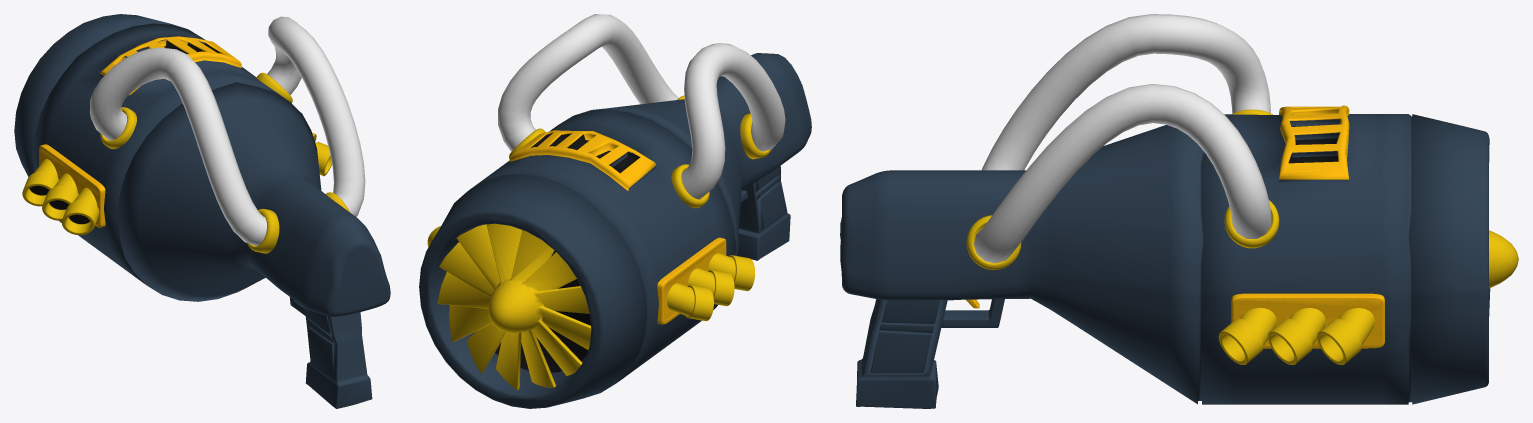
The model's file is propulseur.fbx.
3 views of the same model, side by side, from view 1: azimuth 30°, elevation 25°; view 2: azimuth 150°, elevation 25°; view 3: azimuth 270°, elevation 25° (orthographic). The views are drawn at different scales.
Visible parts, largest first — view 1: Cylinder, BezierCurve, Cylinder.002, Cube, Circle, Circle.001; view 2: Cylinder, Plane.001, BezierCurve, Cylinder.002, Cube, Circle, Circle.001; view 3: Cylinder, BezierCurve, Cylinder.002, Cube, Plane.001, Circle, Circle.001.
Boxes of the visible parts, bbox=[...] form: Cylinder: bbox=[14, 14, 390, 408]; BezierCurve: bbox=[90, 16, 365, 245]; Cylinder.002: bbox=[22, 132, 331, 235]; Cube: bbox=[39, 144, 105, 227]; Circle: bbox=[100, 72, 292, 149]; Circle.001: bbox=[247, 192, 350, 253]; Cylinder: bbox=[419, 53, 811, 408]; Plane.001: bbox=[437, 223, 591, 389]; BezierCurve: bbox=[498, 14, 785, 199]; Cylinder.002: bbox=[427, 226, 754, 321]; Cube: bbox=[657, 237, 726, 324]; Circle: bbox=[509, 128, 709, 208]; Circle.001: bbox=[677, 95, 771, 159]; Cylinder: bbox=[840, 105, 1490, 408]; BezierCurve: bbox=[974, 14, 1271, 263]; Cylinder.002: bbox=[1218, 308, 1374, 364]; Cube: bbox=[1231, 293, 1384, 348]; Plane.001: bbox=[1489, 230, 1518, 288]; Circle: bbox=[1224, 109, 1279, 248]; Circle.001: bbox=[966, 215, 1021, 269].
Size of the model in its own units: 119 by 116 by 205.
